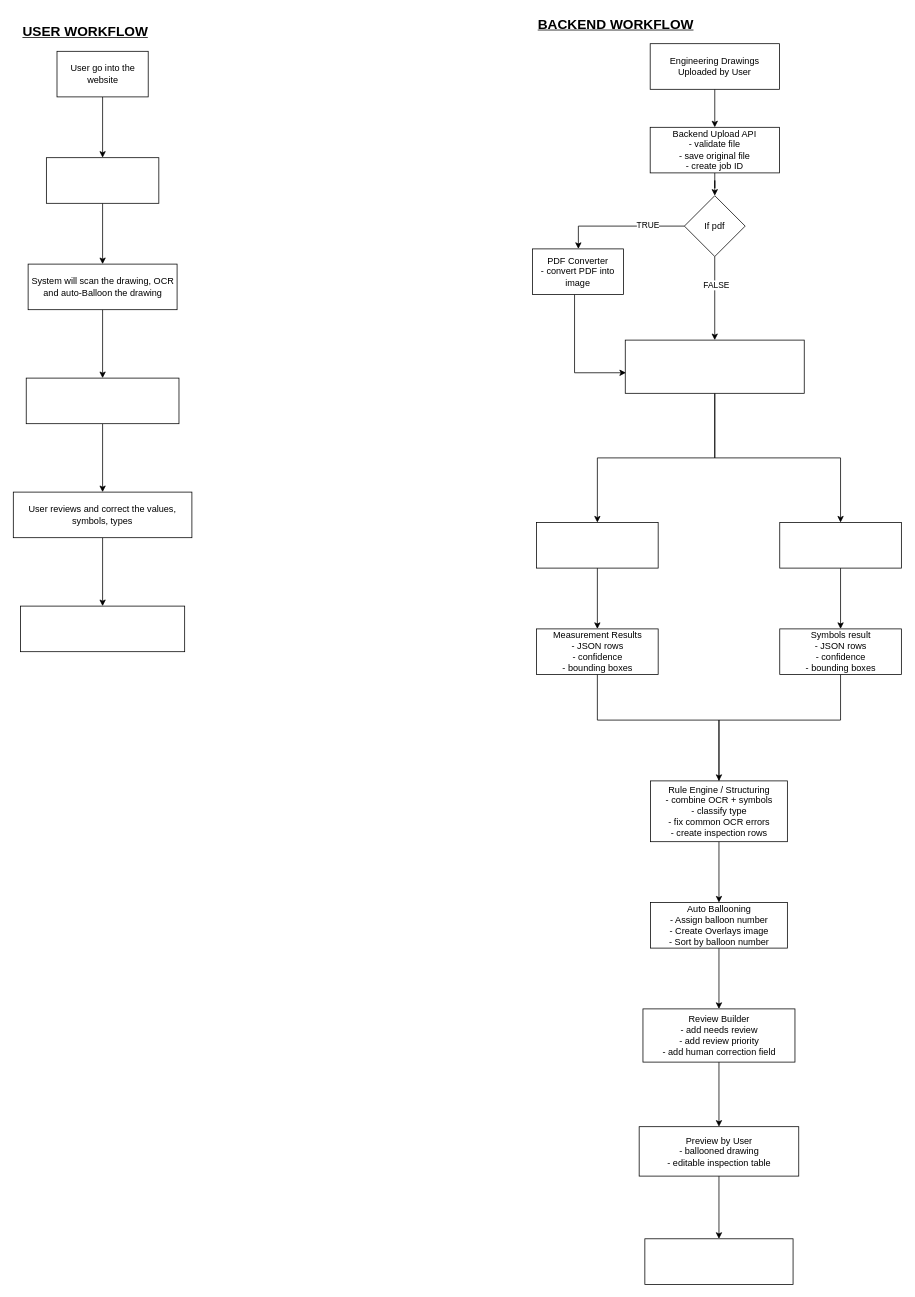
Image size: 915x1297. Some labels were removed from this diagram. The shapes that lost their labels are listed below. From the top down, each one's centre as x and y in pixels, then its label:
At (x=102, y=180): "User upload the drawing PDF/image".
At (x=714, y=366): "Image preprocessing - clean - rotate - crop - resize/DPI".
At (x=102, y=400): "System will preview the ballooned drawing and the inspection table".
At (x=597, y=545): "PaddleOCR - reads text - reads dimension - reads notes".
At (x=840, y=545): "YOLO symbol detector - detects symbols".
At (x=102, y=628): "User will be able to export the ballooned drawing(PDF) and final OCR result.".
At (x=718, y=1261): "Final Export - inspection_[ job_id ].xlsx - ballooned_drawing_ [ job_id ].pdf".
